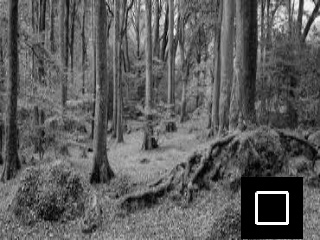square: (241, 177, 303, 239)
